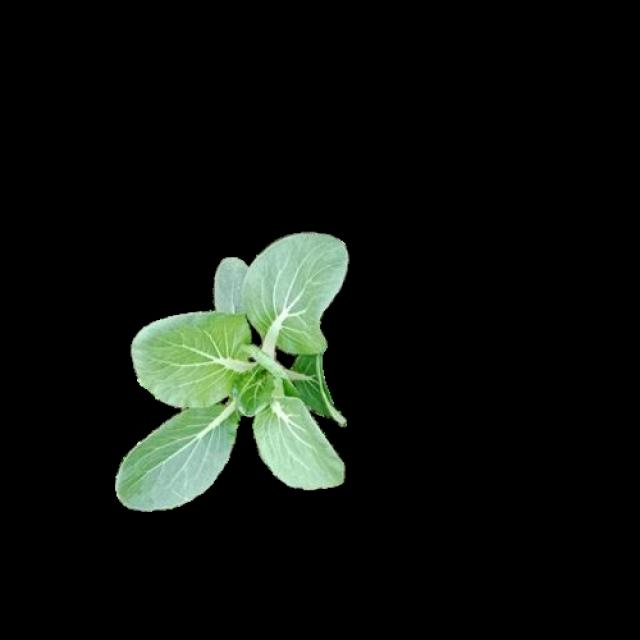healthy: (116, 229, 354, 507)
not-mature: (119, 232, 356, 509)
